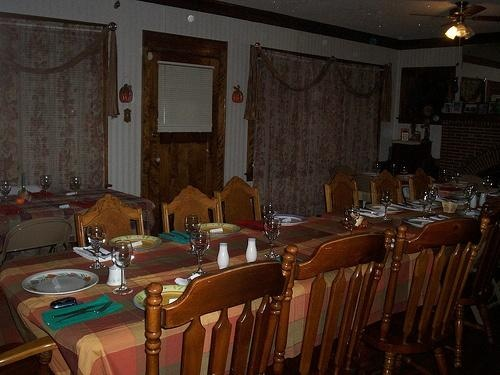chair: (368, 219, 494, 371), (145, 247, 294, 374), (278, 233, 390, 375), (75, 191, 146, 249), (160, 188, 219, 231), (219, 177, 263, 224), (326, 174, 359, 215), (373, 171, 403, 207), (411, 174, 433, 199)
diningtable: (2, 191, 499, 374)
